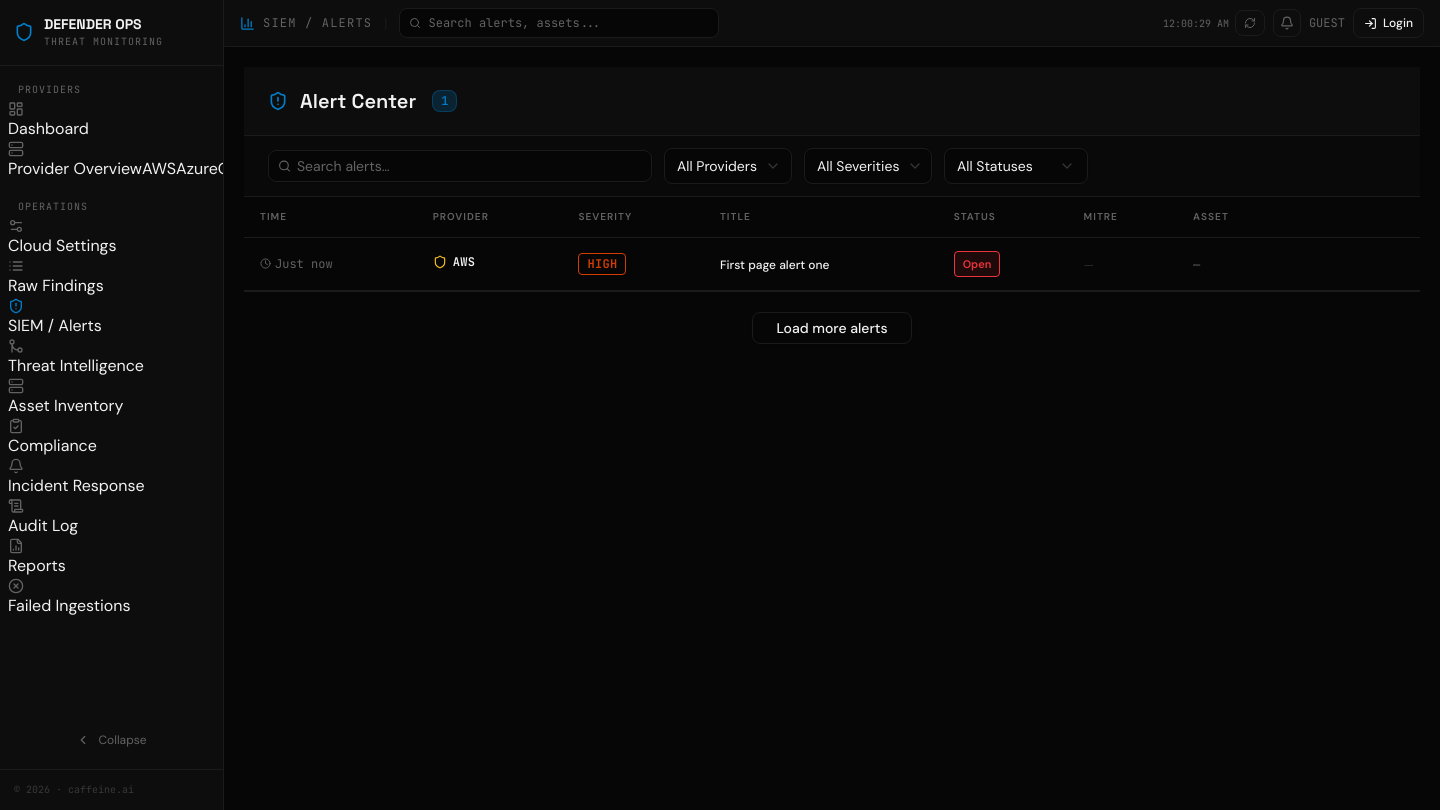
it: AlertsPage cursor pagination (cover) › loads the next page with the returned cursor and appends without duplicates
Click the button with test id "alerts.load_more_button". click: (832, 328)
box: x1=752 y1=312 x2=912 y2=344
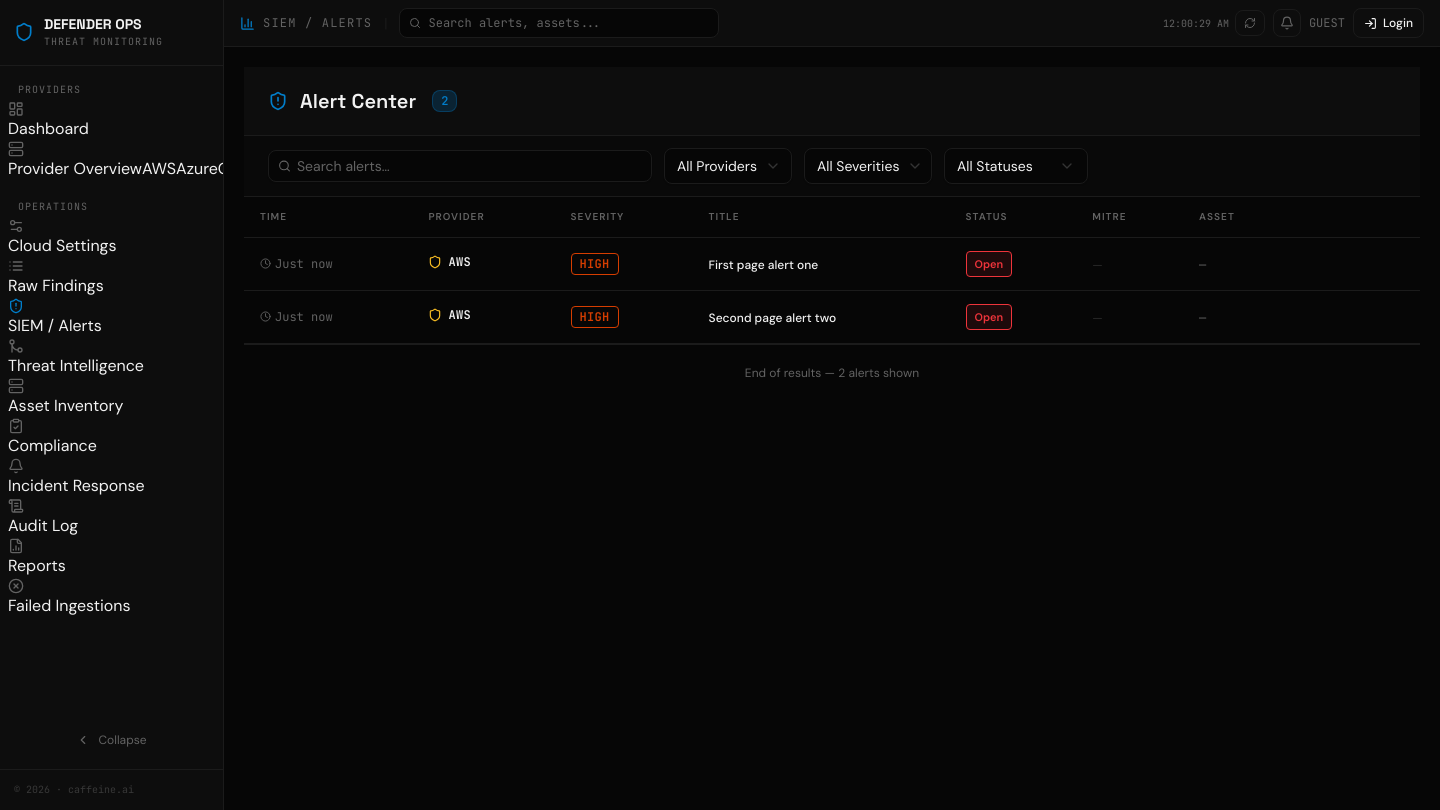
expect the text "Second page alert two" is shown: met, box x1=709 y1=310 x2=836 y2=326
expect the text "First page alert one" is shown once: met, box x1=709 y1=257 x2=818 y2=273
expect the text with test id "alerts.total_badge" reads "2": met, box x1=441 y1=93 x2=448 y2=109
